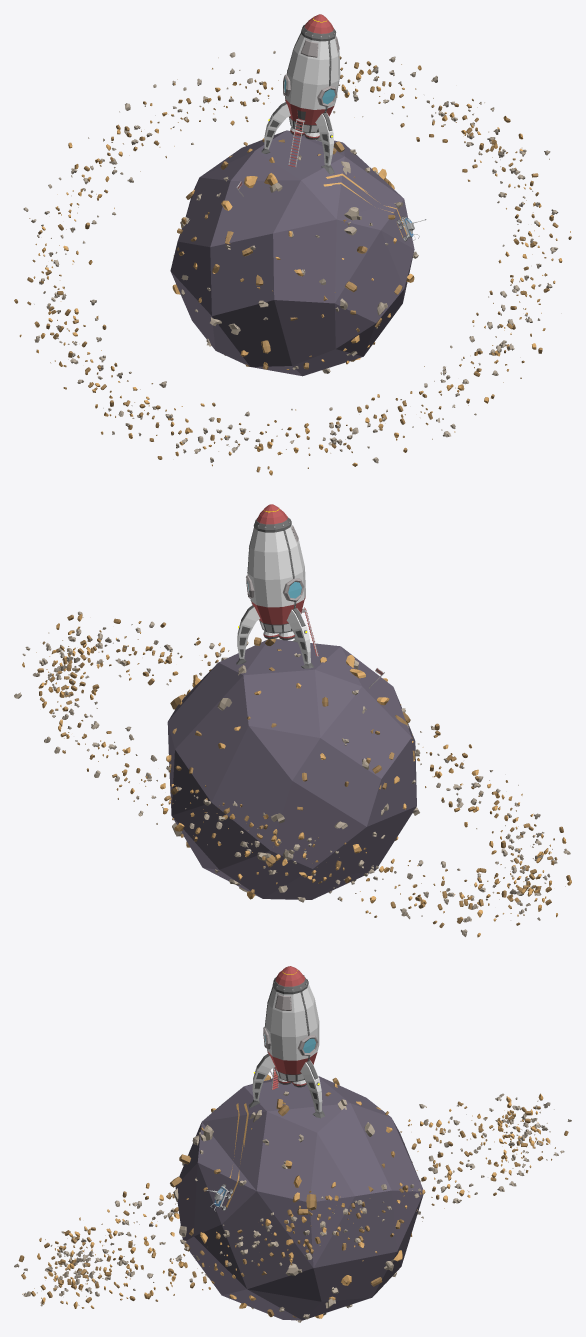
File: space.gltf
The picture shows the model from 3 angles, top to bottom: view 1: azimuth 30°, elevation 25°; view 2: azimuth 150°, elevation 25°; view 3: azimuth 270°, elevation 25°; orthographic projection. The views are drawn at different scales.
Parts seen in each view (by area): view 1: planet.001 (×2); view 2: planet.001 (×2); view 3: planet.001 (×2).
Part boxes in pixels (box(x1,y1,x2,y2)): planet.001 (×2): box(14, 14, 571, 475); planet.001 (×2): box(14, 504, 571, 937); planet.001 (×2): box(14, 966, 571, 1322).
Bounding box in the file's own units: 30.55 × 22.89 × 31.64.
Materials: 1 (1 with a texture image).
